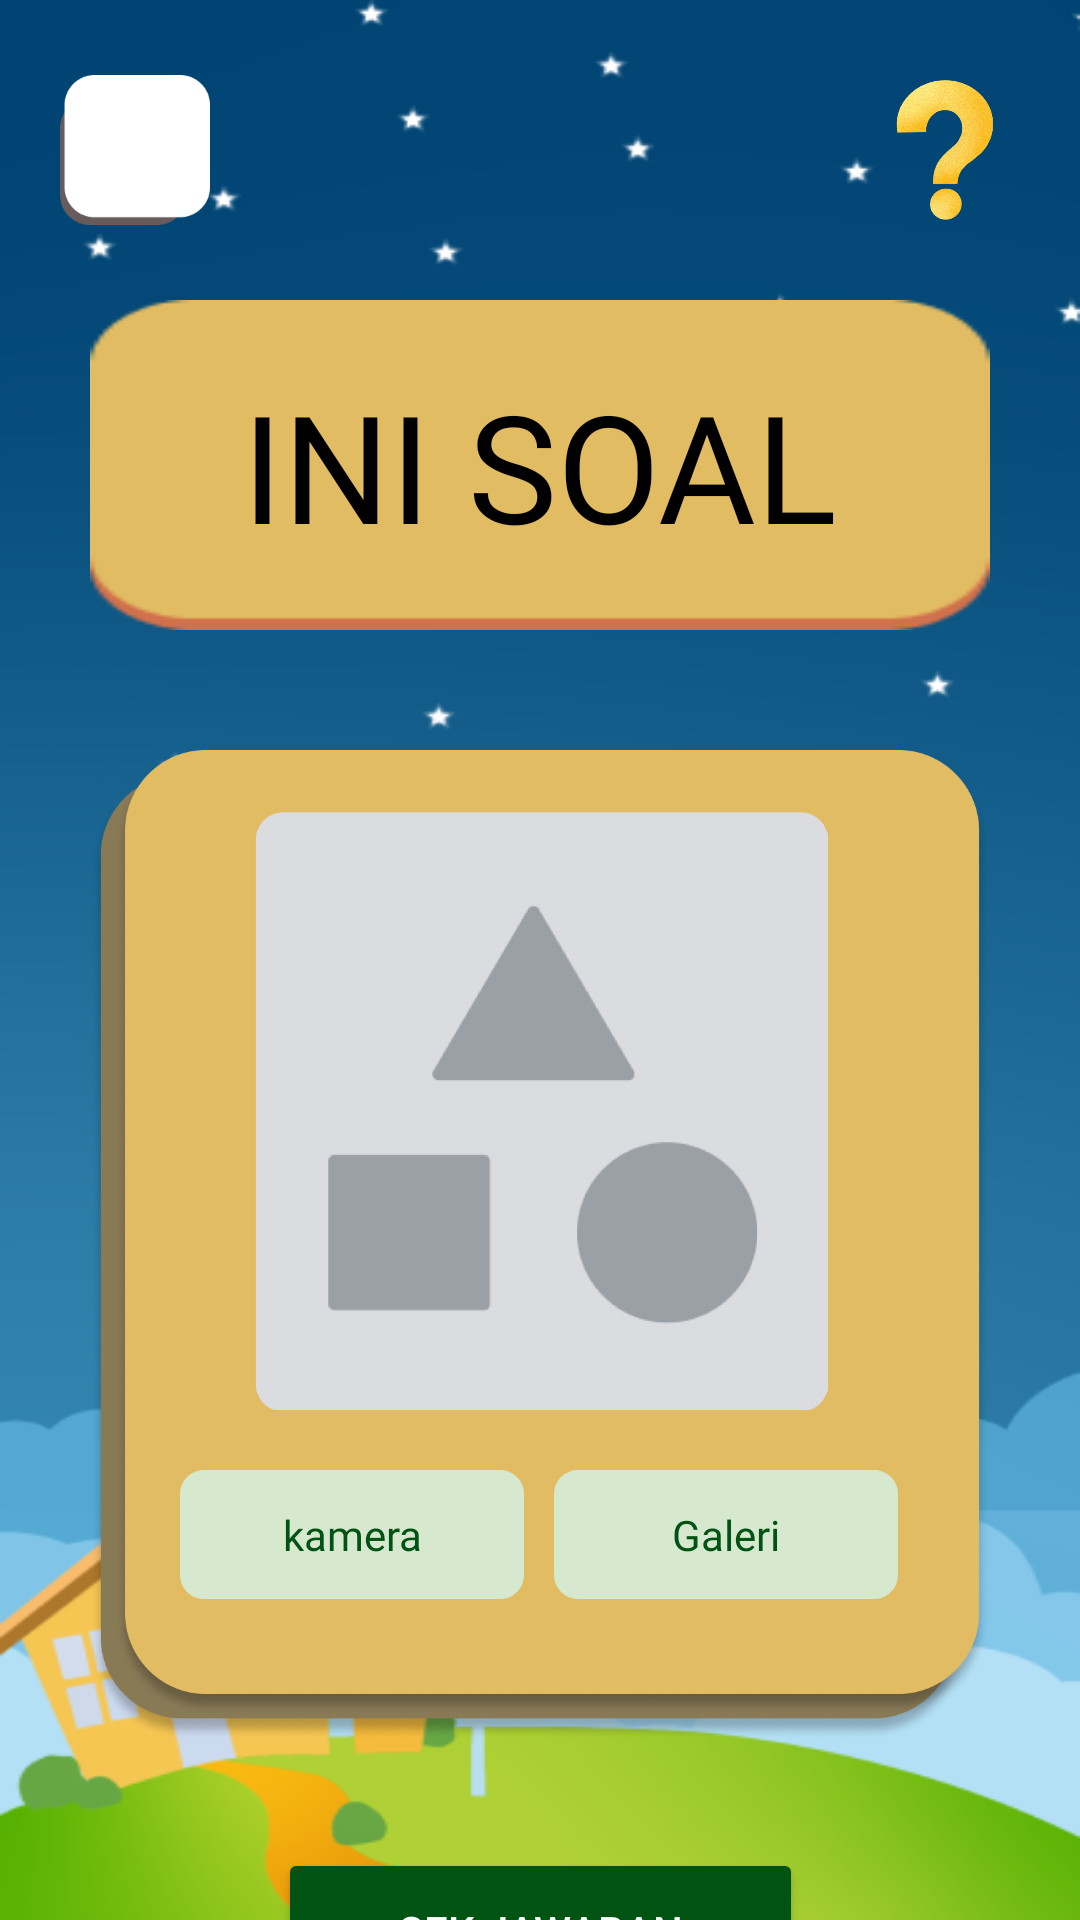

Icon bounding boxes for this 1080px x 1920px phone screenshot, format (x1, y1, x2, y2):
question: (896, 80, 993, 220)
